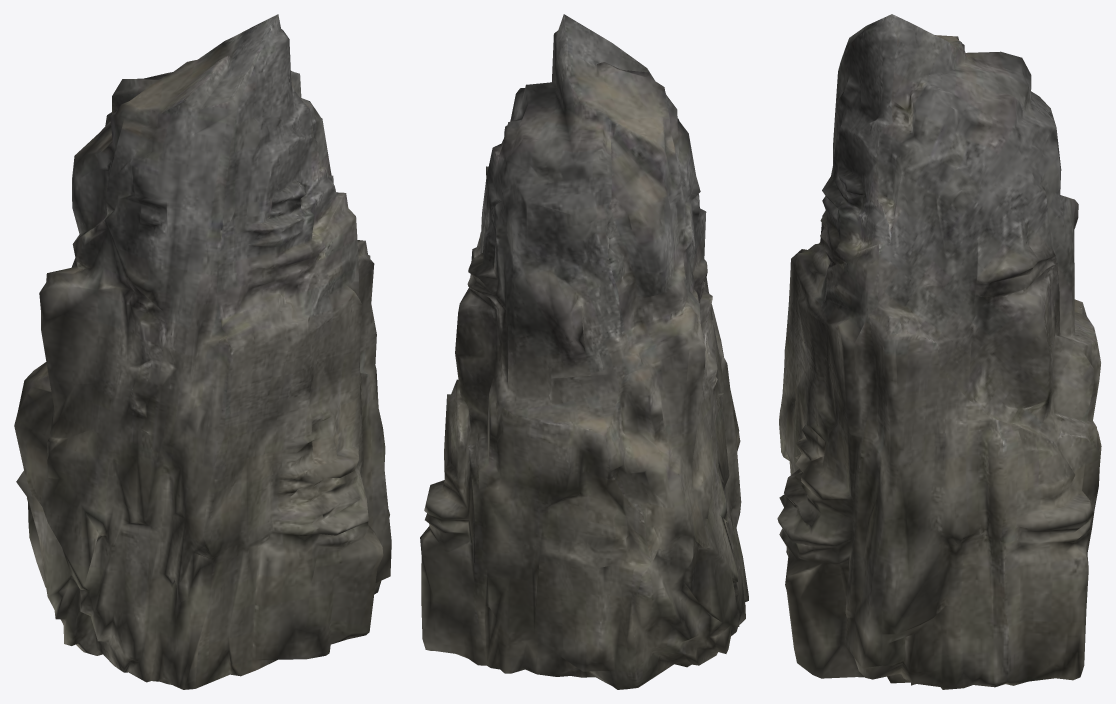
Rendered from cliff_rock.glb.
3 views of the same model, side by side, from view 1: azimuth 30°, elevation 25°; view 2: azimuth 150°, elevation 25°; view 3: azimuth 270°, elevation 25° (orthographic). The views are drawn at different scales.
Visible parts, largest first — view 1: rock2_lp; view 2: rock2_lp; view 3: rock2_lp.
Boxes of the visible parts, x1,y1,x2,y2 form: rock2_lp: (14, 14, 391, 689); rock2_lp: (420, 14, 748, 689); rock2_lp: (777, 14, 1101, 689).
Size of the model in its own units: 22.76 by 42.31 by 19.43.
1 material, 1 textured.
